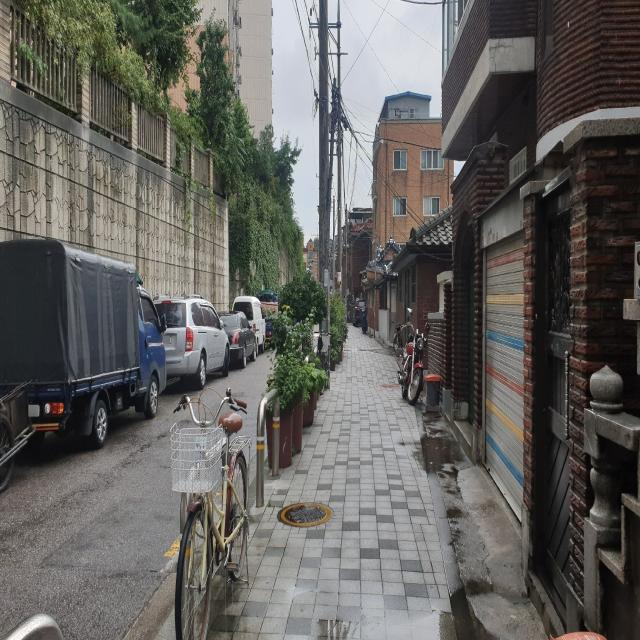motorbike: (398, 308, 430, 404)
